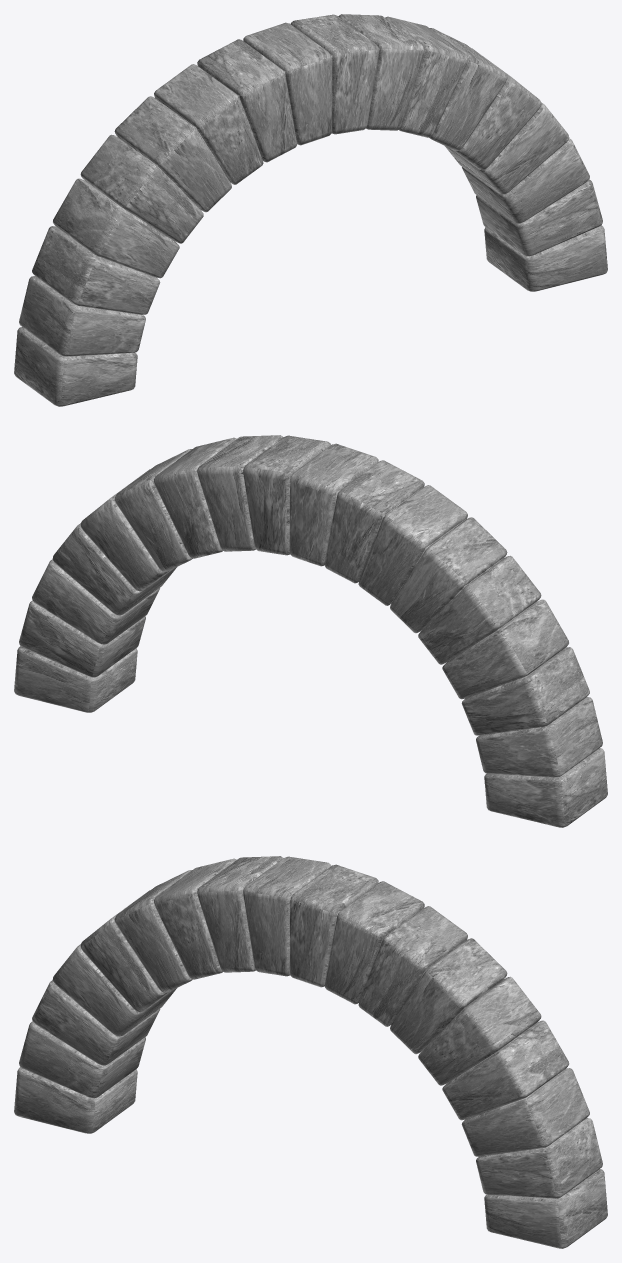
Rendered from arch.fbx.
3 views of the same model, one above another, from view 1: azimuth 30°, elevation 25°; view 2: azimuth 150°, elevation 25°; view 3: azimuth 330°, elevation 25° (orthographic).
Visible parts, largest first — view 1: Cube; view 2: Cube; view 3: Cube.
Boxes of the visible parts, left/top/right/bottom form: Cube: left=14, top=14, right=607, bottom=406; Cube: left=14, top=435, right=607, bottom=827; Cube: left=14, top=856, right=607, bottom=1248.
Bounding box in the file's own units: 1376 × 688 × 200.
